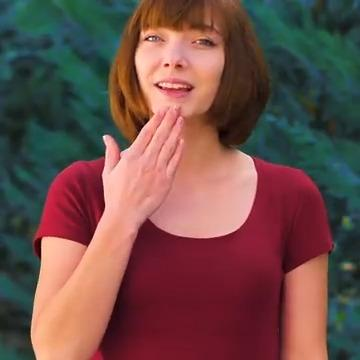Thankyou: (24, 87, 221, 360)
